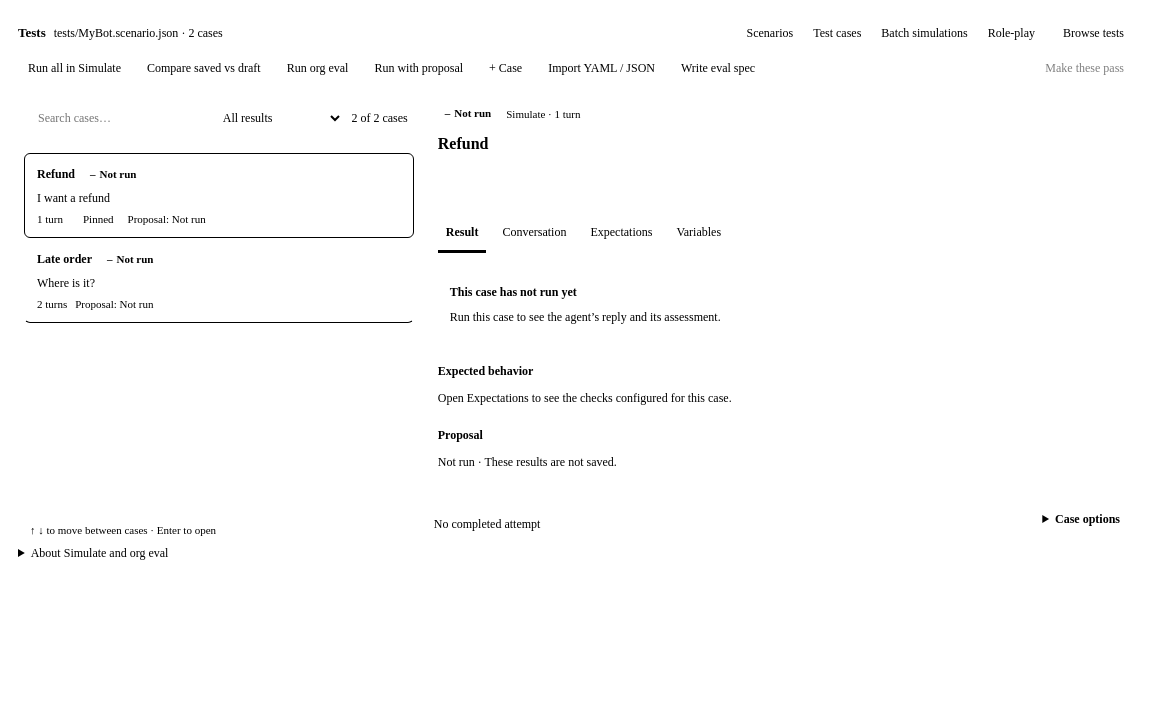
Scenario: runs an open proposal without storing it
Check: the heading "Proposal" is shown, box [438,428,483,442]
What coordinates should you click on to do the following:
click the button "Run with proposal"
I would click on:
 (419, 68)
Its box is [364,58,473,79].
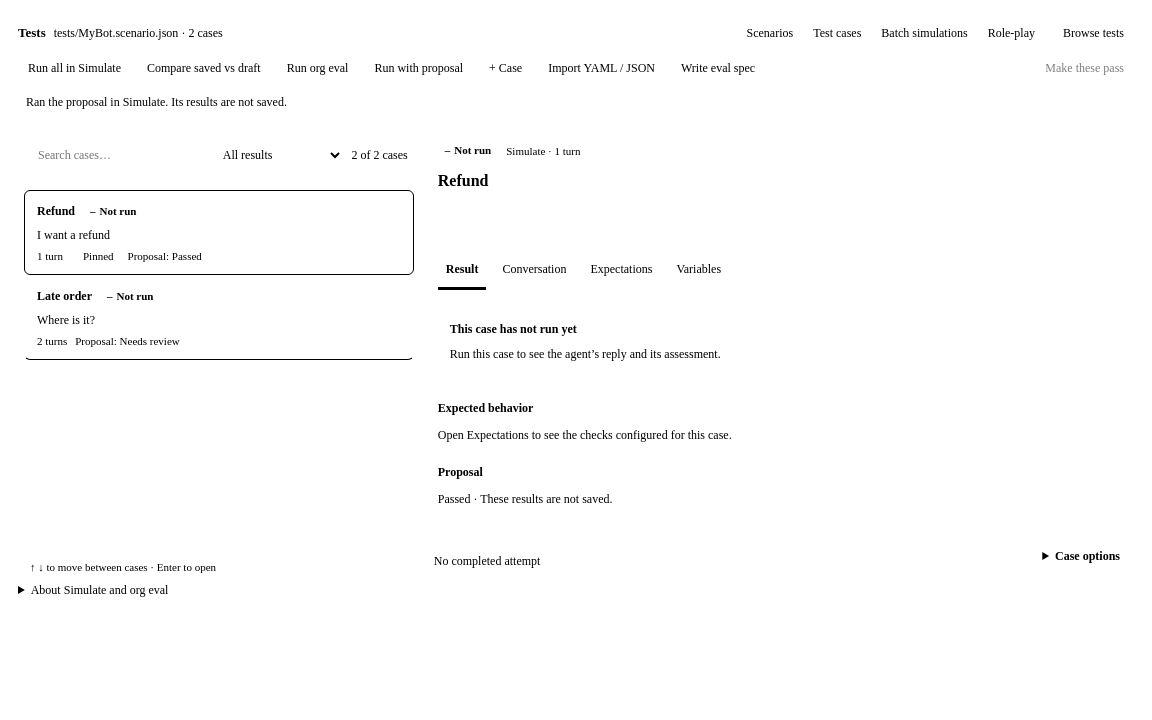
Check: the text "Ran the proposal in Simulate. Its results are not saved." is shown, box [26,95,287,110]
Check: the text "Proposal: Needs review" is shown, box [75,334,180,346]
